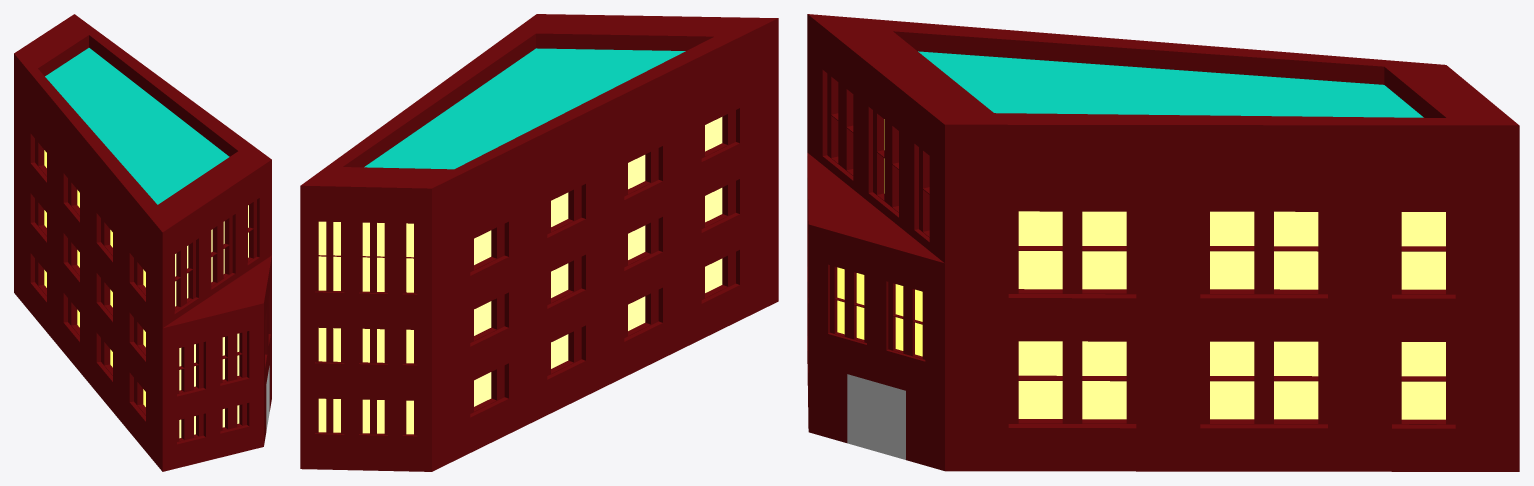
File: javier_s._yucatan_apartment_complex.fbx
3 views of the same model, side by side, from view 1: azimuth 30°, elevation 25°; view 2: azimuth 150°, elevation 25°; view 3: azimuth 270°, elevation 25° (orthographic). The views are drawn at different scales.
Visible parts, largest first — view 1: Plane; view 2: Plane; view 3: Plane.
Part boxes in pixels (x1,y1,x2,y2): Plane: (14,14,271,471); Plane: (300,14,778,471); Plane: (807,14,1519,471).
Bounding box in the file's own units: 173 × 250 × 466.
